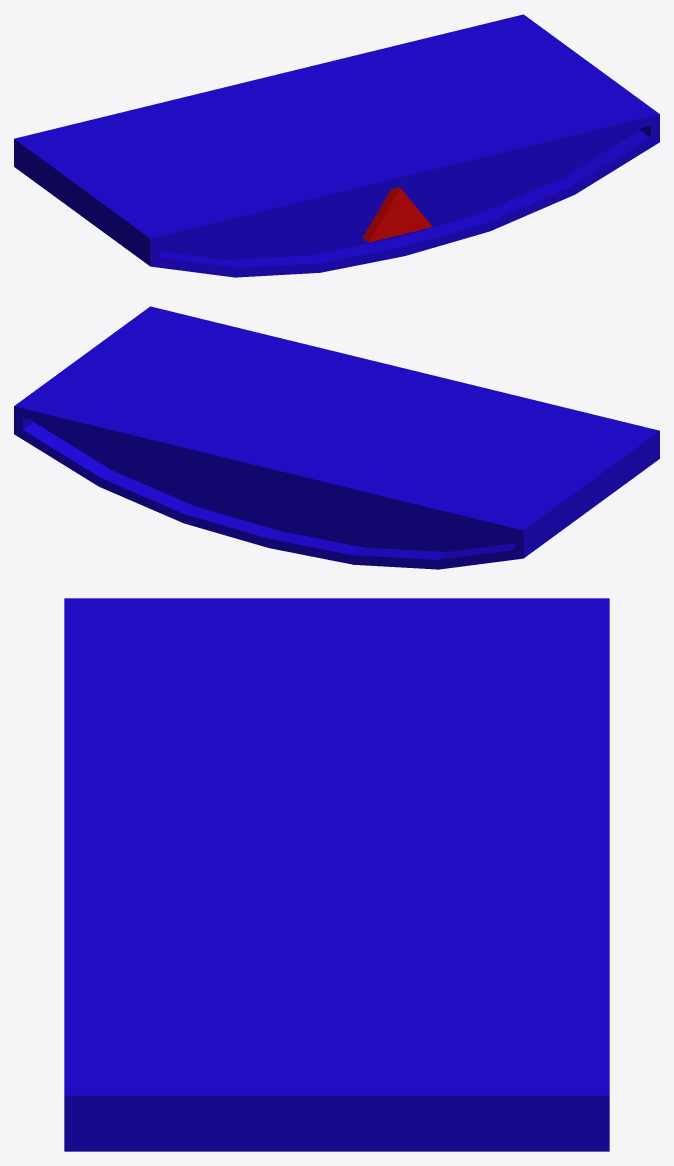
Rendered from Ascenseur.FBX.
The picture shows the model from 3 angles, top to bottom: view 1: azimuth 30°, elevation 25°; view 2: azimuth 150°, elevation 25°; view 3: azimuth 270°, elevation 25°; orthographic projection. The views are drawn at different scales.
Parts seen in each view (by area): view 1: Box010; view 2: Box010; view 3: Box010.
Part boxes in pixels (x1=…): Box010: x1=14, y1=14, x2=659, y2=277; Box010: x1=14, y1=306, x2=659, y2=569; Box010: x1=64, y1=598, x2=609, y2=1151.
Size of the model in its own units: 242 by 36.14 by 112.
